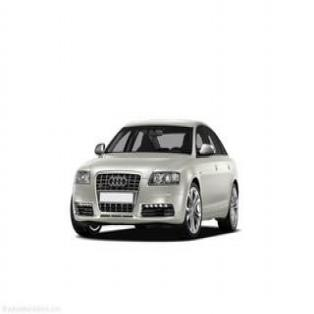Auto: (68, 113, 241, 244)
